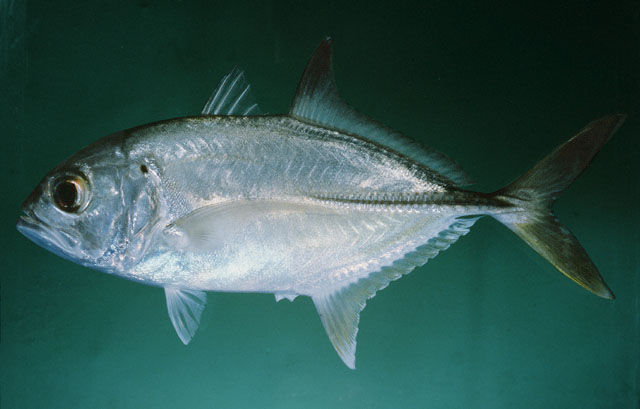fish: (14, 39, 618, 369)
